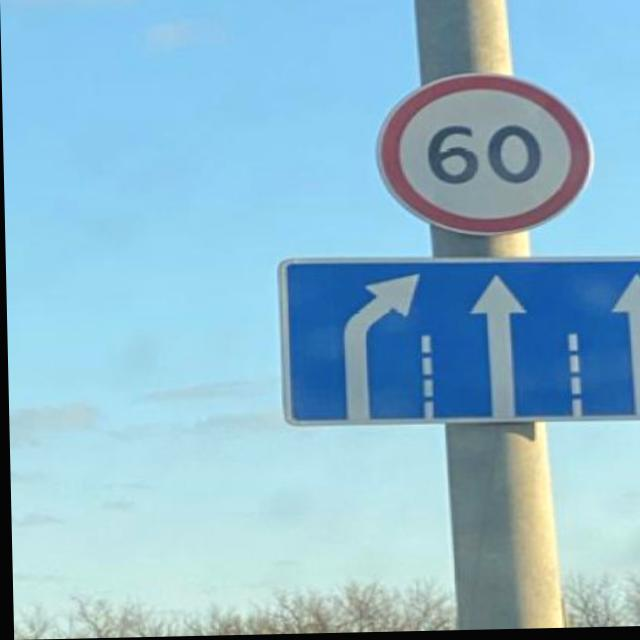limit60: (355, 64, 604, 244)
